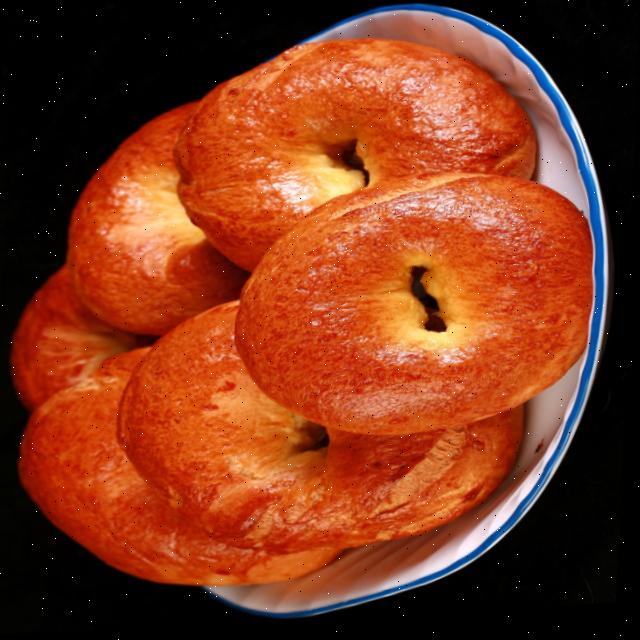Bagel: (121, 304, 525, 556), (237, 177, 594, 439), (175, 41, 536, 272), (22, 347, 344, 588), (68, 104, 251, 336)
